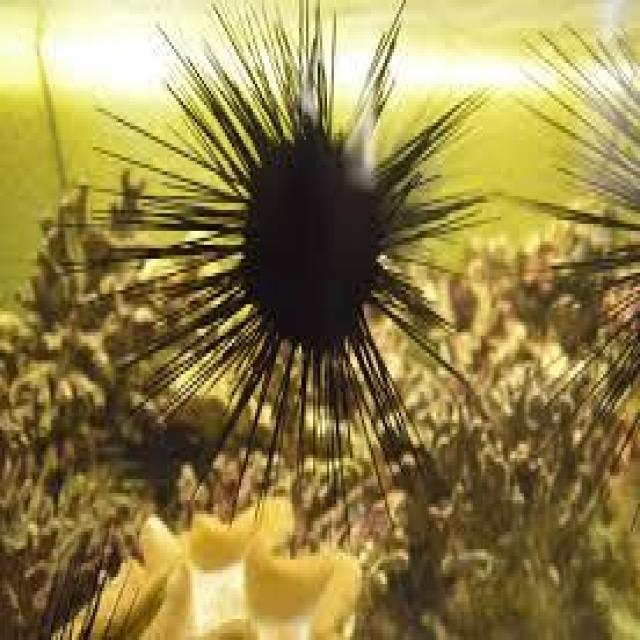Urchin: (73, 25, 511, 514)
